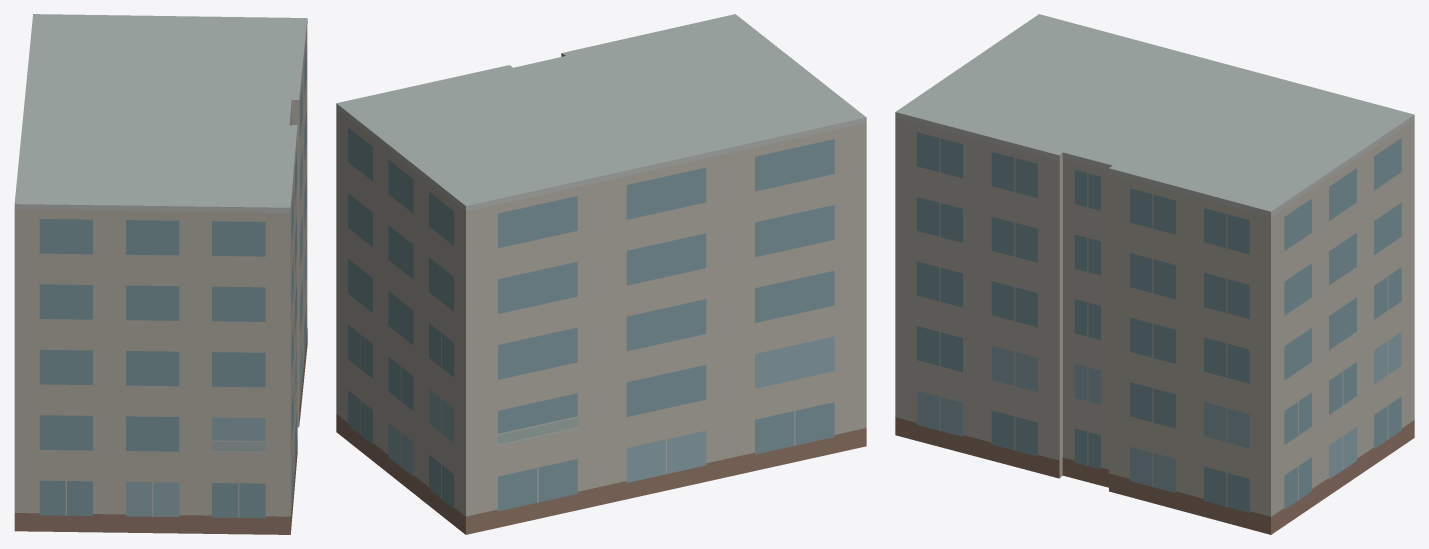
Rendered from survey-upis-32789772.glb.
3 views of the same model, side by side, from view 1: azimuth 30°, elevation 25°; view 2: azimuth 150°, elevation 25°; view 3: azimuth 270°, elevation 25° (orthographic).
Visible parts, largest first — view 1: survey-upis-32789772.tmp; view 2: survey-upis-32789772.tmp; view 3: survey-upis-32789772.tmp.
Boxes of the visible parts, x1,y1,x2,y2 form: survey-upis-32789772.tmp: (14, 14, 307, 534); survey-upis-32789772.tmp: (336, 14, 866, 534); survey-upis-32789772.tmp: (895, 14, 1414, 534).
Size of the model in its own units: 19.1 by 14.55 by 21.2.
